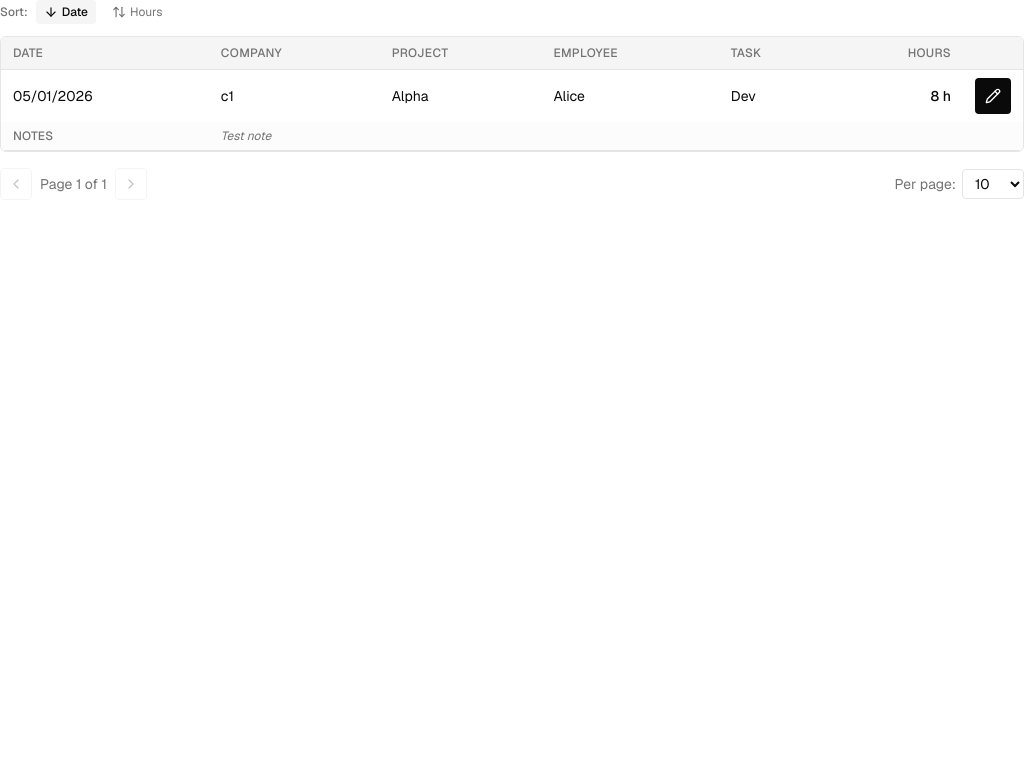
Test: HistoryTable › blocks save and shows guidance when editing hours <= 0
Click the button with test id "edit-btn".
click(993, 96)  # box [975, 78, 1011, 114]
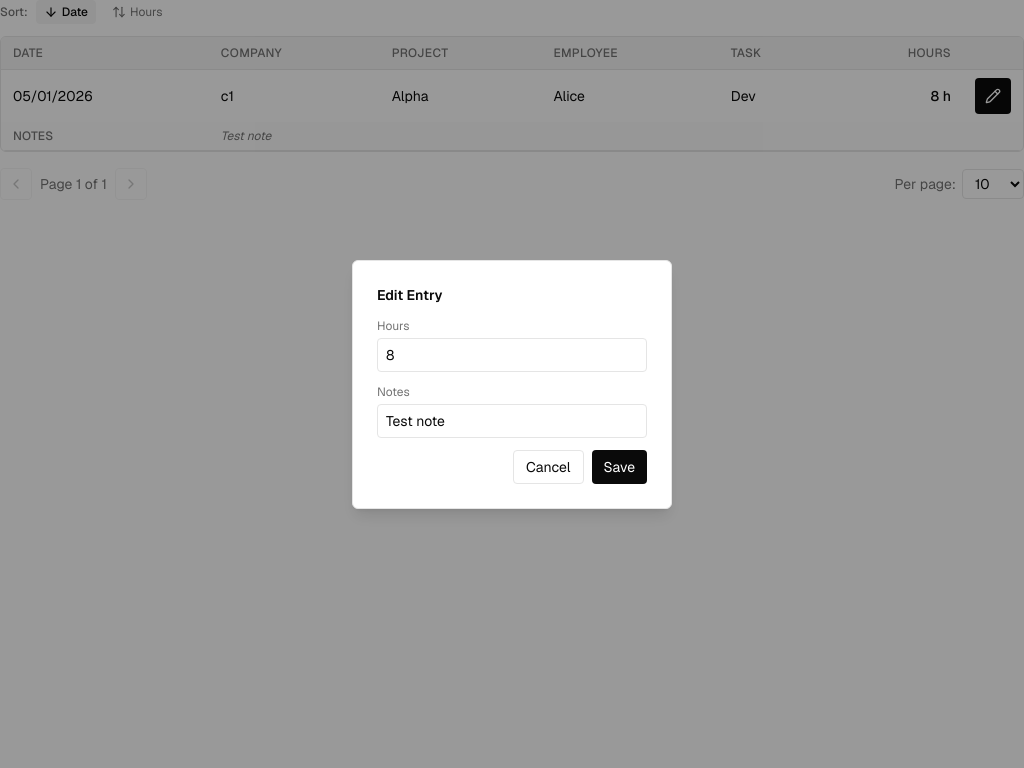
Replace the text in the number field with test id "edit-hours" with "0" at [512, 354], box [377, 338, 647, 372]
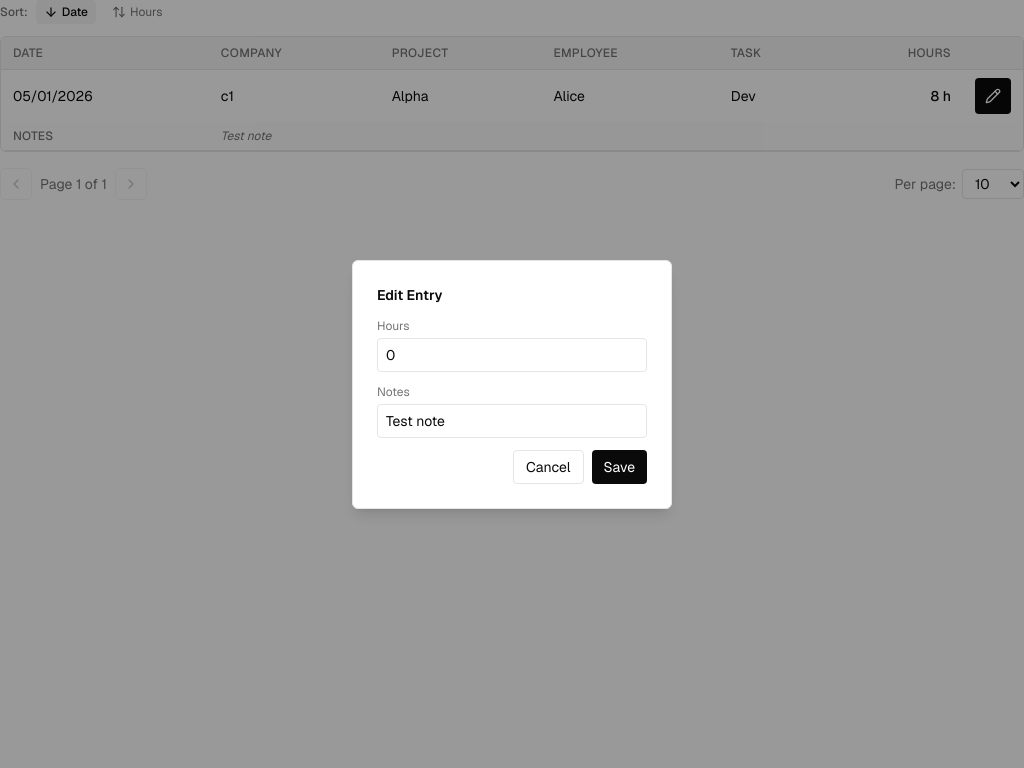
Click the button with test id "edit-save".
click(619, 466)  # box [592, 450, 647, 484]
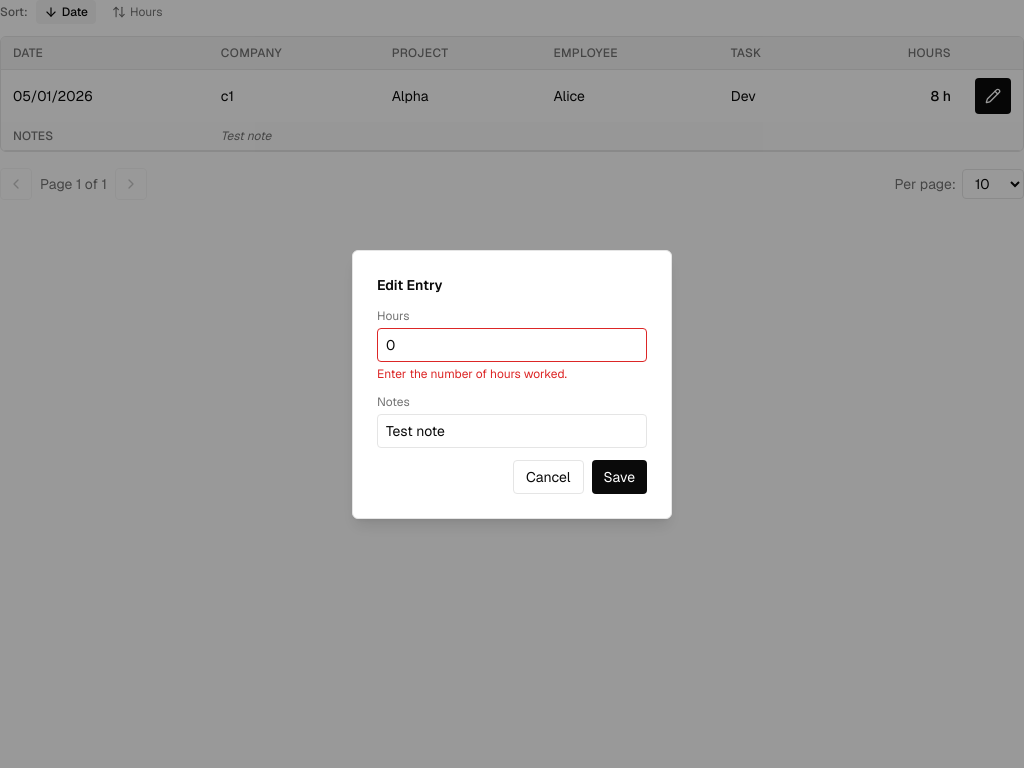
Expected: the text with test id "edit-error" reads "Enter the number of hours worked.", [377, 366, 567, 382]
